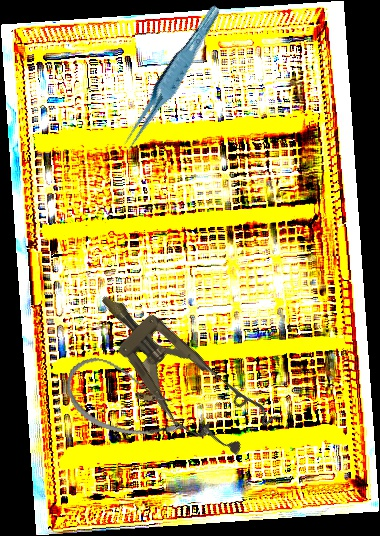Cannula: (58, 351, 192, 448)
Speculum: (75, 269, 279, 473)
Tissue Forceps: (108, 3, 232, 156)
